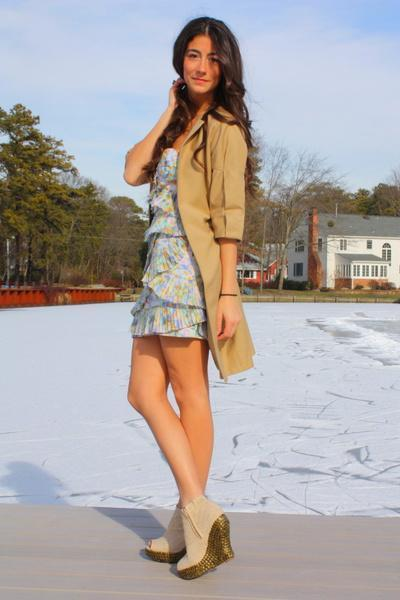dress: (130, 146, 224, 345)
jacket: (177, 102, 254, 381)
shoe: (141, 493, 233, 579)
